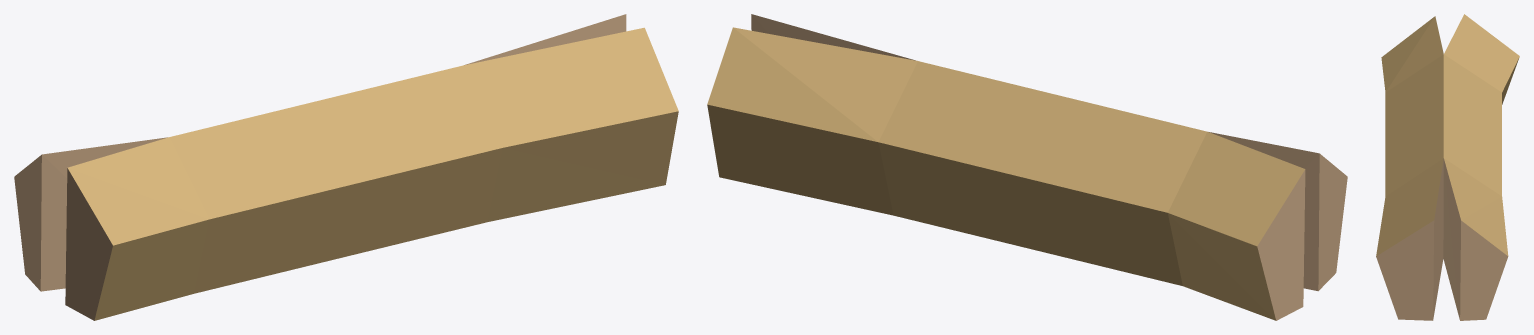
Rendered from Simple_Firewood_03.fbx.
The picture shows the model from 3 angles, left to right: view 1: azimuth 30°, elevation 25°; view 2: azimuth 150°, elevation 25°; view 3: azimuth 270°, elevation 25°; orthographic projection. The views are drawn at different scales.
Parts seen in each view (by area): view 1: Simple_Firewood_03; view 2: Simple_Firewood_03; view 3: Simple_Firewood_03.
Boxes of the visible parts, x1,y1,x2,y2 form: Simple_Firewood_03: (14, 14, 678, 320); Simple_Firewood_03: (707, 14, 1347, 320); Simple_Firewood_03: (1376, 14, 1519, 320).
Bounding box in the file's own units: 55.28 × 12.56 × 16.28.
